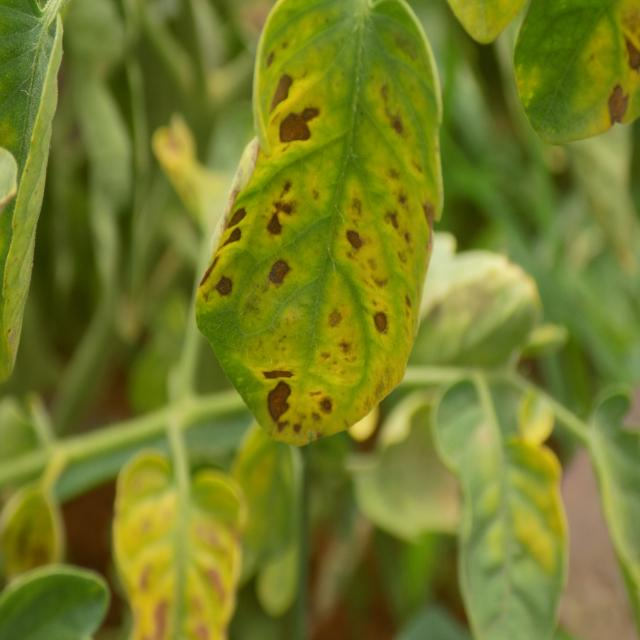tomato_early blight: (194, 0, 445, 442), (112, 452, 247, 640), (509, 0, 640, 156)
